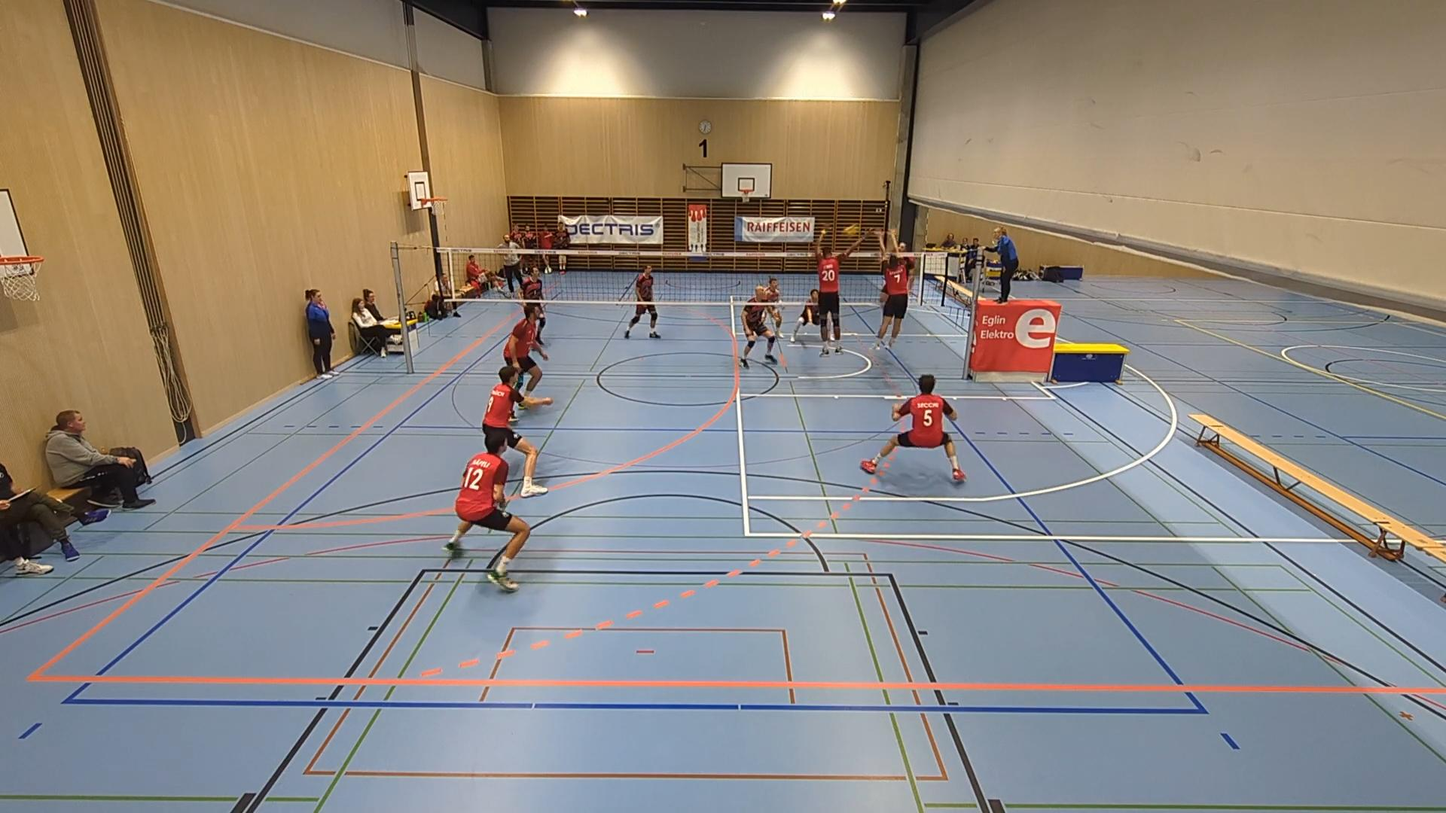Attack: (875, 235, 915, 291)
Block: (810, 232, 866, 358), (873, 235, 917, 351)
Player: (445, 435, 529, 592), (861, 376, 965, 481), (483, 366, 552, 497), (504, 303, 541, 395), (740, 286, 776, 367), (624, 265, 659, 338), (520, 266, 545, 346), (791, 289, 819, 343), (767, 276, 782, 330)
ball: (846, 225, 863, 236)
